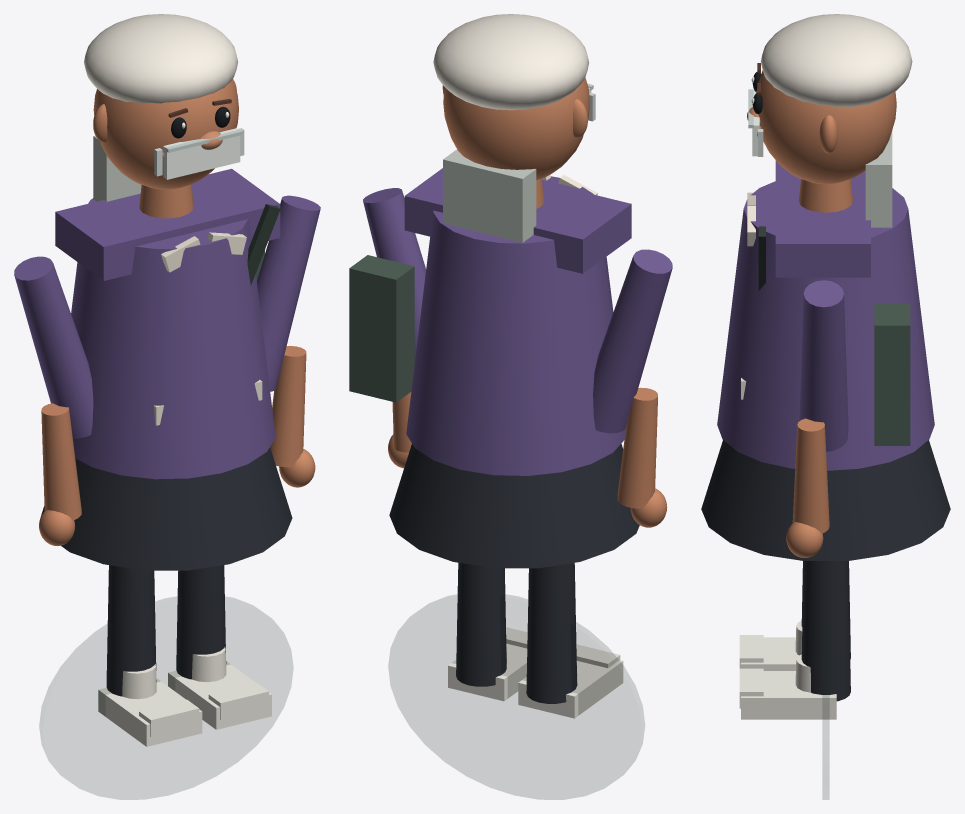
The model's file is customer_03.glb.
3 renders of one model, left to right at view 1: azimuth 30°, elevation 25°; view 2: azimuth 150°, elevation 25°; view 3: azimuth 270°, elevation 25°, orthographic. The views are drawn at different scales.
Visible parts, largest first — view 1: torso, contact_shadow, skirt, covered_hair, shoulder_line, head, upper_arm_-0.235, upper_arm_0.235, leg_-0.075, leg_0.075, forearm_-0.235, forearm_0.235 (+13 smaller); view 2: torso, contact_shadow, skirt, covered_hair, shoulder_bag, head, upper_arm_-0.235, shoulder_line, leg_-0.075, scarf_tail, leg_0.075, forearm_-0.235 (+6 smaller); view 3: torso, skirt, covered_hair, head, shoulder_line, upper_arm_0.235, leg_0.075, shoulder_bag, forearm_0.235, shoe_0.075, scarf_tail, neck (+8 smaller).
Boxes of the visible parts, x1=… form: torso: x1=71, y1=198, x2=275, y2=479; contact_shadow: x1=39, y1=596, x2=292, y2=799; skirt: x1=41, y1=447, x2=292, y2=570; covered_hair: x1=84, y1=14, x2=237, y2=103; shoulder_line: x1=55, y1=168, x2=280, y2=280; head: x1=93, y1=79, x2=238, y2=189; upper_arm_-0.235: x1=14, y1=256, x2=93, y2=438; upper_arm_0.235: x1=257, y1=195, x2=320, y2=391; leg_-0.075: x1=106, y1=565, x2=156, y2=696; leg_0.075: x1=176, y1=565, x2=226, y2=679; forearm_-0.235: x1=41, y1=403, x2=81, y2=520; forearm_0.235: x1=270, y1=346, x2=306, y2=467; torso: x1=406, y1=176, x2=625, y2=475; contact_shadow: x1=388, y1=594, x2=644, y2=799; skirt: x1=389, y1=443, x2=639, y2=568; covered_hair: x1=433, y1=14, x2=589, y2=110; shoulder_bag: x1=349, y1=255, x2=414, y2=402; head: x1=443, y1=77, x2=589, y2=179; upper_arm_-0.235: x1=593, y1=249, x2=672, y2=433; shoulder_line: x1=404, y1=168, x2=631, y2=273; leg_-0.075: x1=526, y1=563, x2=577, y2=703; scarf_tail: x1=443, y1=149, x2=536, y2=242; leg_0.075: x1=456, y1=562, x2=506, y2=686; forearm_-0.235: x1=617, y1=387, x2=657, y2=508; torso: x1=717, y1=181, x2=934, y2=470; skirt: x1=701, y1=440, x2=950, y2=560; covered_hair: x1=760, y1=14, x2=912, y2=106; head: x1=756, y1=70, x2=896, y2=184; shoulder_line: x1=775, y1=160, x2=870, y2=277; upper_arm_0.235: x1=799, y1=280, x2=848, y2=451; leg_0.075: x1=801, y1=561, x2=850, y2=701; shoulder_bag: x1=874, y1=303, x2=910, y2=445; forearm_0.235: x1=792, y1=418, x2=829, y2=533; shoe_0.075: x1=741, y1=671, x2=836, y2=719; scarf_tail: x1=865, y1=131, x2=892, y2=227; neck: x1=799, y1=179, x2=852, y2=212.
Size of the model in its own units: 0.623 by 1.51 by 0.4512.
